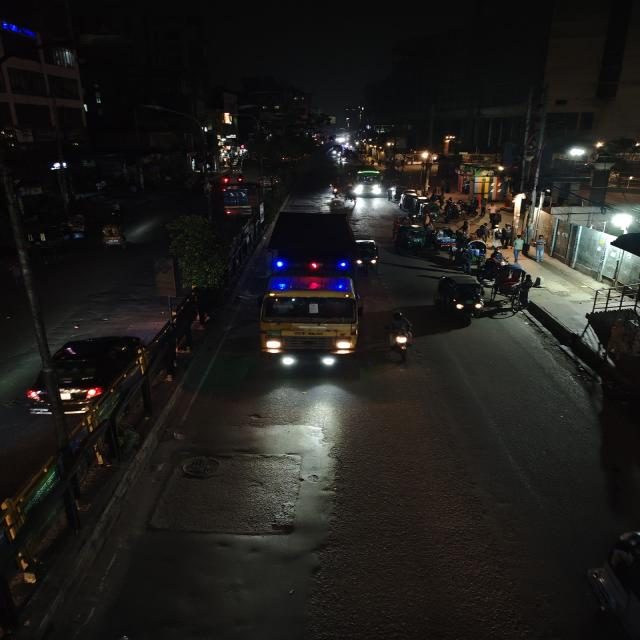bus: (351, 167, 384, 197)
car: (21, 331, 146, 417)
cng: (432, 273, 487, 319), (353, 236, 381, 274), (394, 223, 427, 251)
motorcycle: (382, 308, 418, 362)
pedestrian: (481, 253, 502, 282), (530, 234, 548, 264), (456, 250, 474, 274), (511, 234, 526, 262), (468, 240, 487, 262), (475, 223, 491, 243), (492, 227, 504, 248), (530, 274, 544, 290)
rickshaw: (96, 222, 131, 254), (432, 226, 460, 253), (63, 213, 90, 240)
truck: (258, 210, 365, 376), (218, 182, 264, 218)
